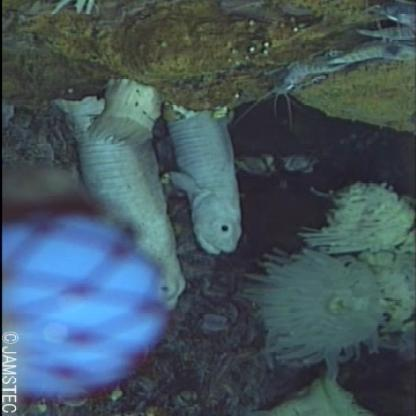Bio: (54, 74, 246, 316), (237, 240, 379, 385)
